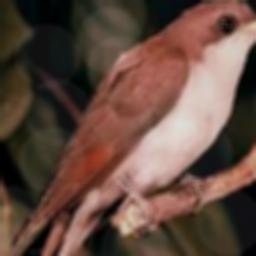Cuckoo: (9, 0, 256, 248)
